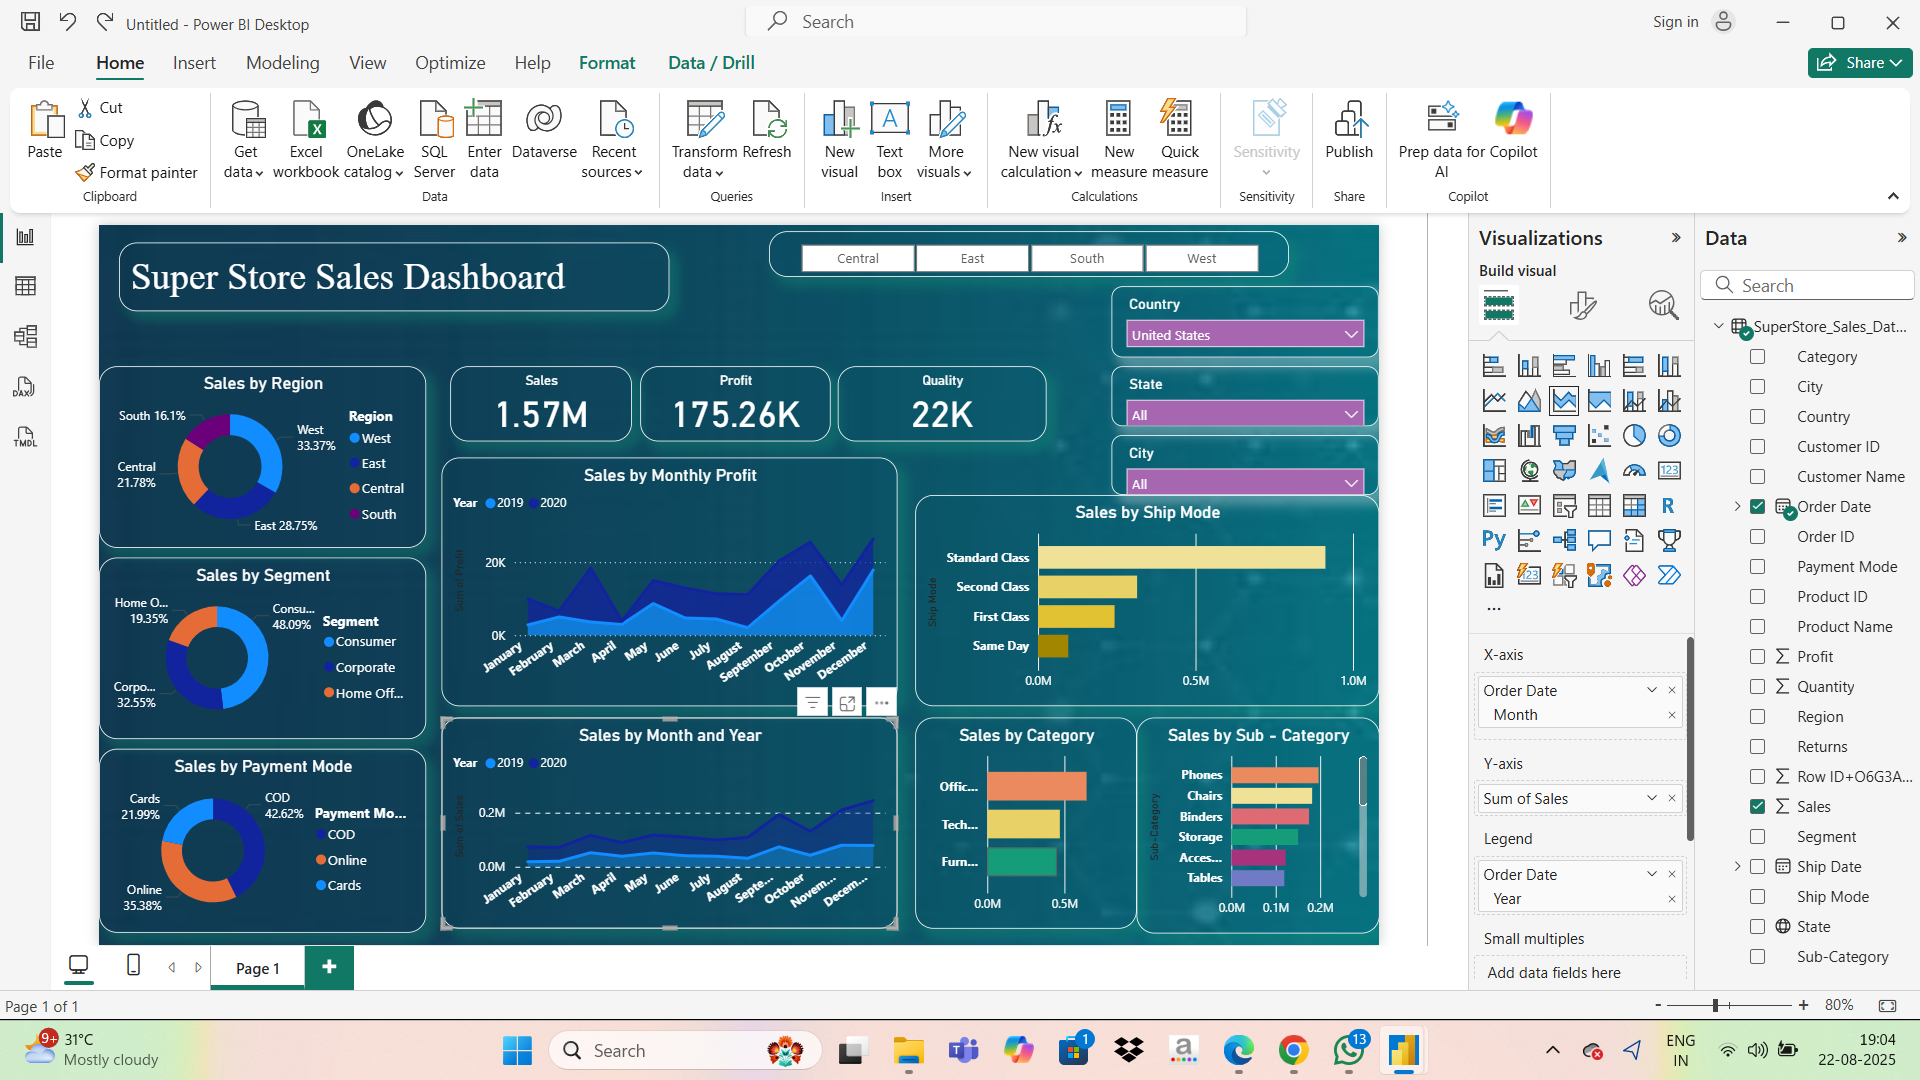

What the dashboard file says about the page in this screenshot:
{"tool":"powerbi","page":{"name":"Page 1","canvas":[1280,720],"ordinal":0},"visuals":[{"type":"barChart","title":" Sales by Category","fields":{"Category":["SuperStore_Sales_Dataset.Category"],"Y":["Sum(SuperStore_Sales_Dataset.Sales)"]},"box":[815.7,492.9,221.4,211.4],"z":0},{"type":"barChart","title":" Sales by Sub - Category","fields":{"Category":["SuperStore_Sales_Dataset.Sub-Category"],"Y":["Sum(SuperStore_Sales_Dataset.Sales)"]},"box":[1037.1,492.9,242.9,215.7],"z":1000},{"type":"stackedAreaChart","title":"Sales by Month and Year","fields":{"Y":["Sum(SuperStore_Sales_Dataset.Sales)"],"Category":["SuperStore_Sales_Dataset.Order Date.Variation.Date Hierarchy.Month"],"Series":["SuperStore_Sales_Dataset.Order Date.Variation.Date Hierarchy.Year"]},"box":[342.5,492.5,456.2,211.2],"z":2000},{"type":"stackedAreaChart","title":"Sales by Monthly Profit","fields":{"Y":["Sum(SuperStore_Sales_Dataset.Profit)"],"Category":["SuperStore_Sales_Dataset.Order Date.Variation.Date Hierarchy.Month"],"Series":["SuperStore_Sales_Dataset.Order Date.Variation.Date Hierarchy.Year"]},"box":[342.5,232.5,456.2,248.8],"z":3000},{"type":"donutChart","title":" Sales by Segment","fields":{"Category":["SuperStore_Sales_Dataset.Segment"],"Y":["Sum(SuperStore_Sales_Dataset.Sales)"]},"box":[0,332.9,327.1,181.4],"z":4000},{"type":"donutChart","title":" Sales by Payment Mode","fields":{"Category":["SuperStore_Sales_Dataset.Payment Mode"],"Y":["Sum(SuperStore_Sales_Dataset.Sales)"],"Series":["SuperStore_Sales_Dataset.Payment Mode"]},"box":[0,524.3,327.1,184.3],"z":5000},{"type":"donutChart","title":" Sales by Region","fields":{"Category":["SuperStore_Sales_Dataset.Region"],"Y":["Sum(SuperStore_Sales_Dataset.Sales)"]},"box":[0,141.4,327.1,181.4],"z":6000},{"type":"slicer","fields":{"Values":["SuperStore_Sales_Dataset.Region"]},"box":[670,5.7,520,45.7],"z":7000},{"type":"textbox","box":[20,17.1,550,68.6],"z":8000},{"type":"barChart","title":" Sales by Ship Mode","fields":{"Category":["SuperStore_Sales_Dataset.Ship Mode"],"Y":["Sum(SuperStore_Sales_Dataset.Sales)"]},"box":[816.2,270,463.8,211.2],"z":9000},{"type":"card","title":"Sales","fields":{"Values":["Sum(SuperStore_Sales_Dataset.Sales)"]},"box":[351.2,141.2,181.2,75],"z":10000},{"type":"card","title":"Profit","fields":{"Values":["Sum(SuperStore_Sales_Dataset.Profit)"]},"box":[541.2,141.2,190,75],"z":11000},{"type":"card","title":"Quality","fields":{"Values":["Sum(SuperStore_Sales_Dataset.Quantity)"]},"box":[738.8,141.2,208.8,75],"z":12000},{"type":"slicer","fields":{"Values":["SuperStore_Sales_Dataset.Country"]},"box":[1012.5,61.2,267.5,71.2],"z":13000},{"type":"slicer","fields":{"Values":["SuperStore_Sales_Dataset.City"]},"box":[1012.5,210,267.5,60],"z":14000},{"type":"slicer","fields":{"Values":["SuperStore_Sales_Dataset.State"]},"box":[1012.5,141.2,267.5,60],"z":15000}]}

Visuals, with their boxes on the page's 1280x720 design canvas (x1, y1, x2, y2). These are canvas units, not pixel positions in the 1920x1080 screenshot, which may show the page scaled, cropped or inside an application window:
" Sales by Category" barChart: 816:493:1037:704
" Sales by Sub - Category" barChart: 1037:493:1280:709
"Sales by Month and Year" stackedAreaChart: 342:492:799:704
"Sales by Monthly Profit" stackedAreaChart: 342:232:799:481
" Sales by Segment" donutChart: 0:333:327:514
" Sales by Payment Mode" donutChart: 0:524:327:709
" Sales by Region" donutChart: 0:141:327:323
slicer - SuperStore_Sales_Dataset.Region: 670:6:1190:51
textbox: 20:17:570:86
" Sales by Ship Mode" barChart: 816:270:1280:481
"Sales" card: 351:141:532:216
"Profit" card: 541:141:731:216
"Quality" card: 739:141:948:216
slicer - SuperStore_Sales_Dataset.Country: 1012:61:1280:132
slicer - SuperStore_Sales_Dataset.City: 1012:210:1280:270
slicer - SuperStore_Sales_Dataset.State: 1012:141:1280:201
